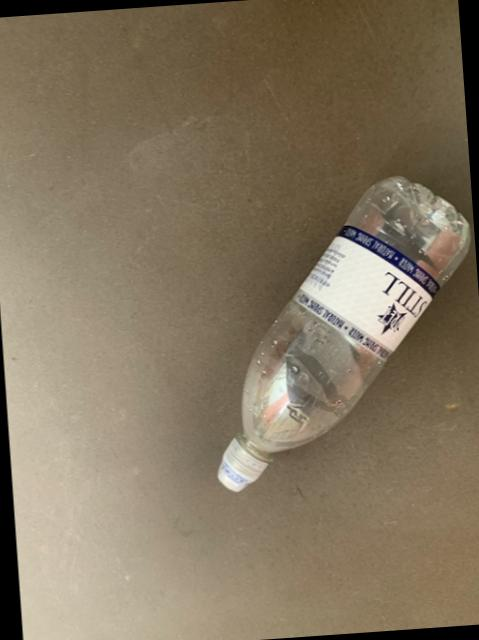plastic: (215, 174, 467, 488)
